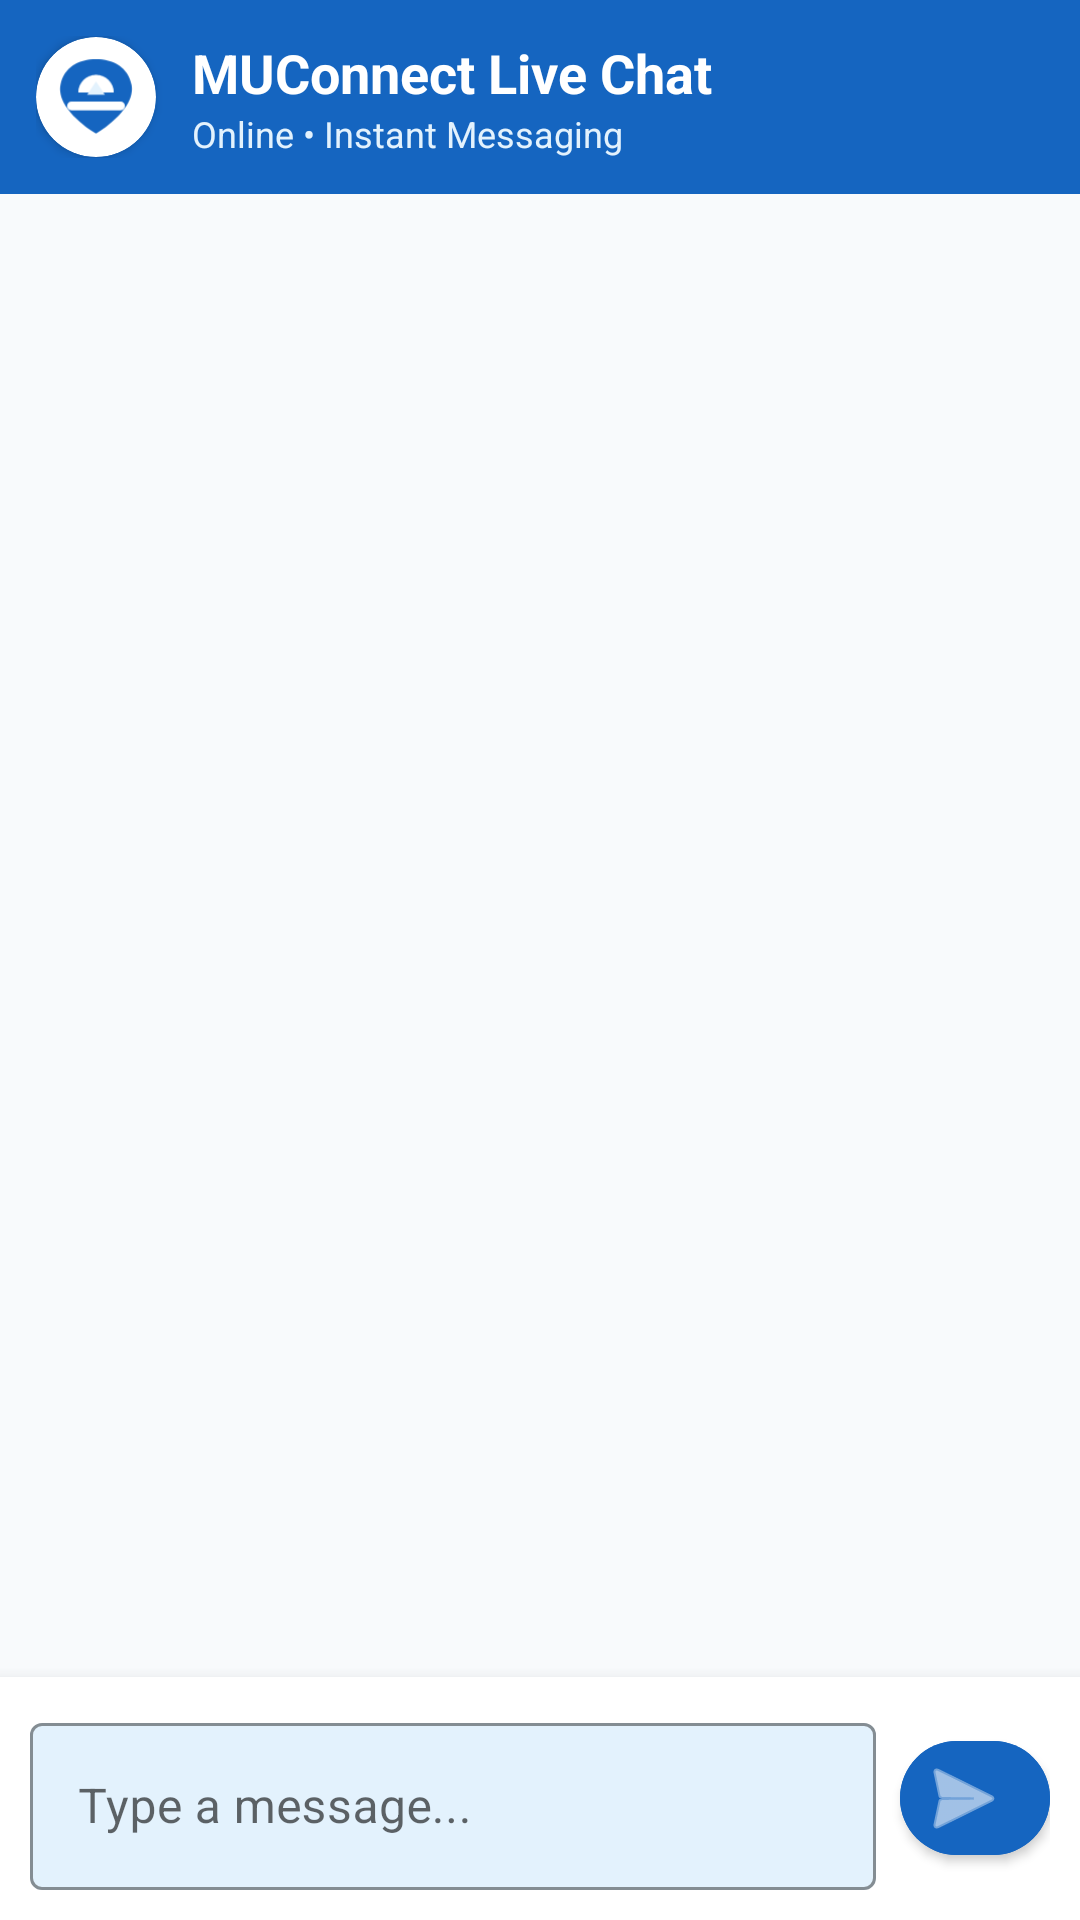

Where to tap for icons on this 1080×1920 app screen, as (x=x, y=y):
send: (x=975, y=1801)
